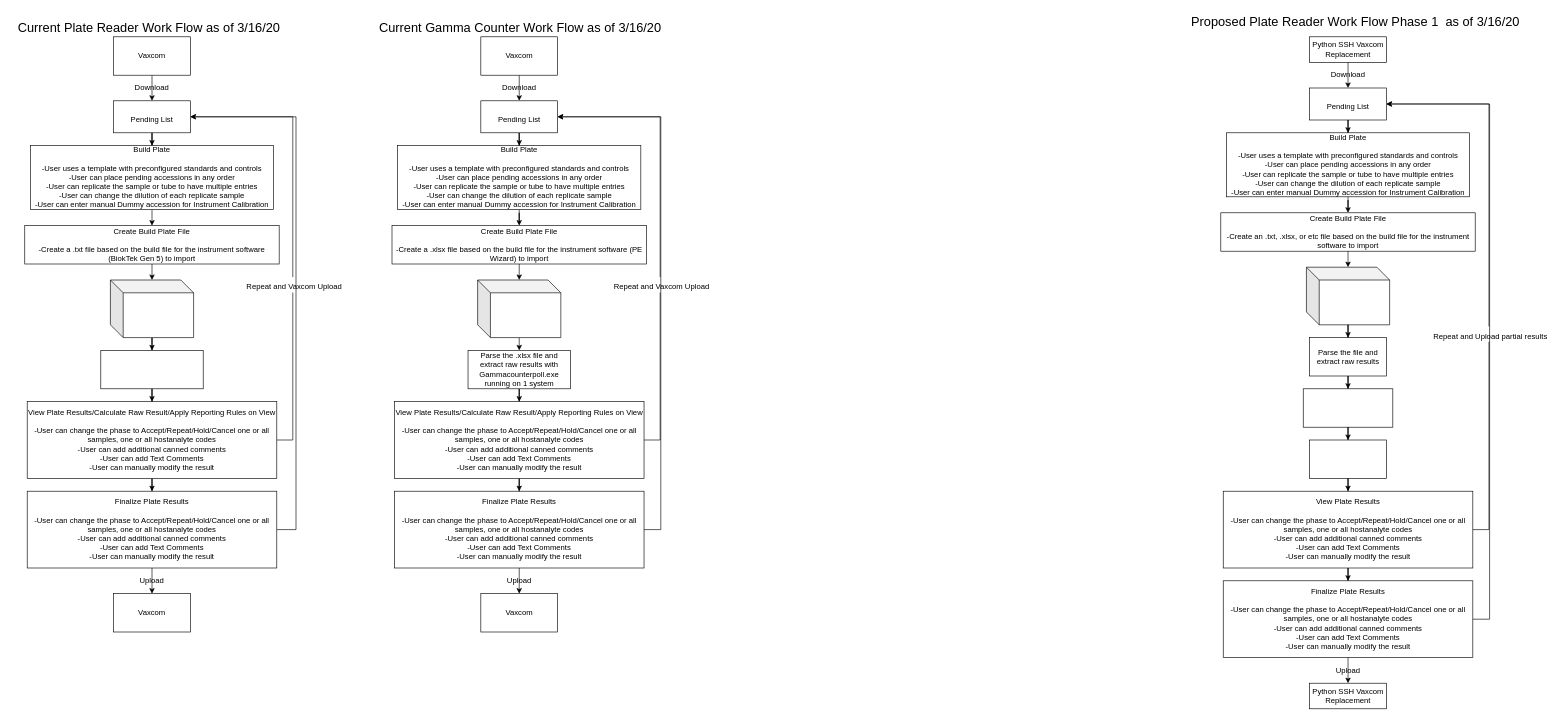
Image size: 1558x720. Some labels were removed from this diagram. Each missing label, with the centre of its shape:
"Apply Reporting Rules and Canned comments" belongs at (1347,458).
"BioTek Instrument" belongs at (152,308).
"Calculate Raw Result" belongs at (1348,407).
"Instrument" belongs at (1348,296).
"Parse the .pwv file and extract raw results with poll.exe running on 1 system" belongs at (151,369).
"Perkin Elmer Instrument" belongs at (519,308).
